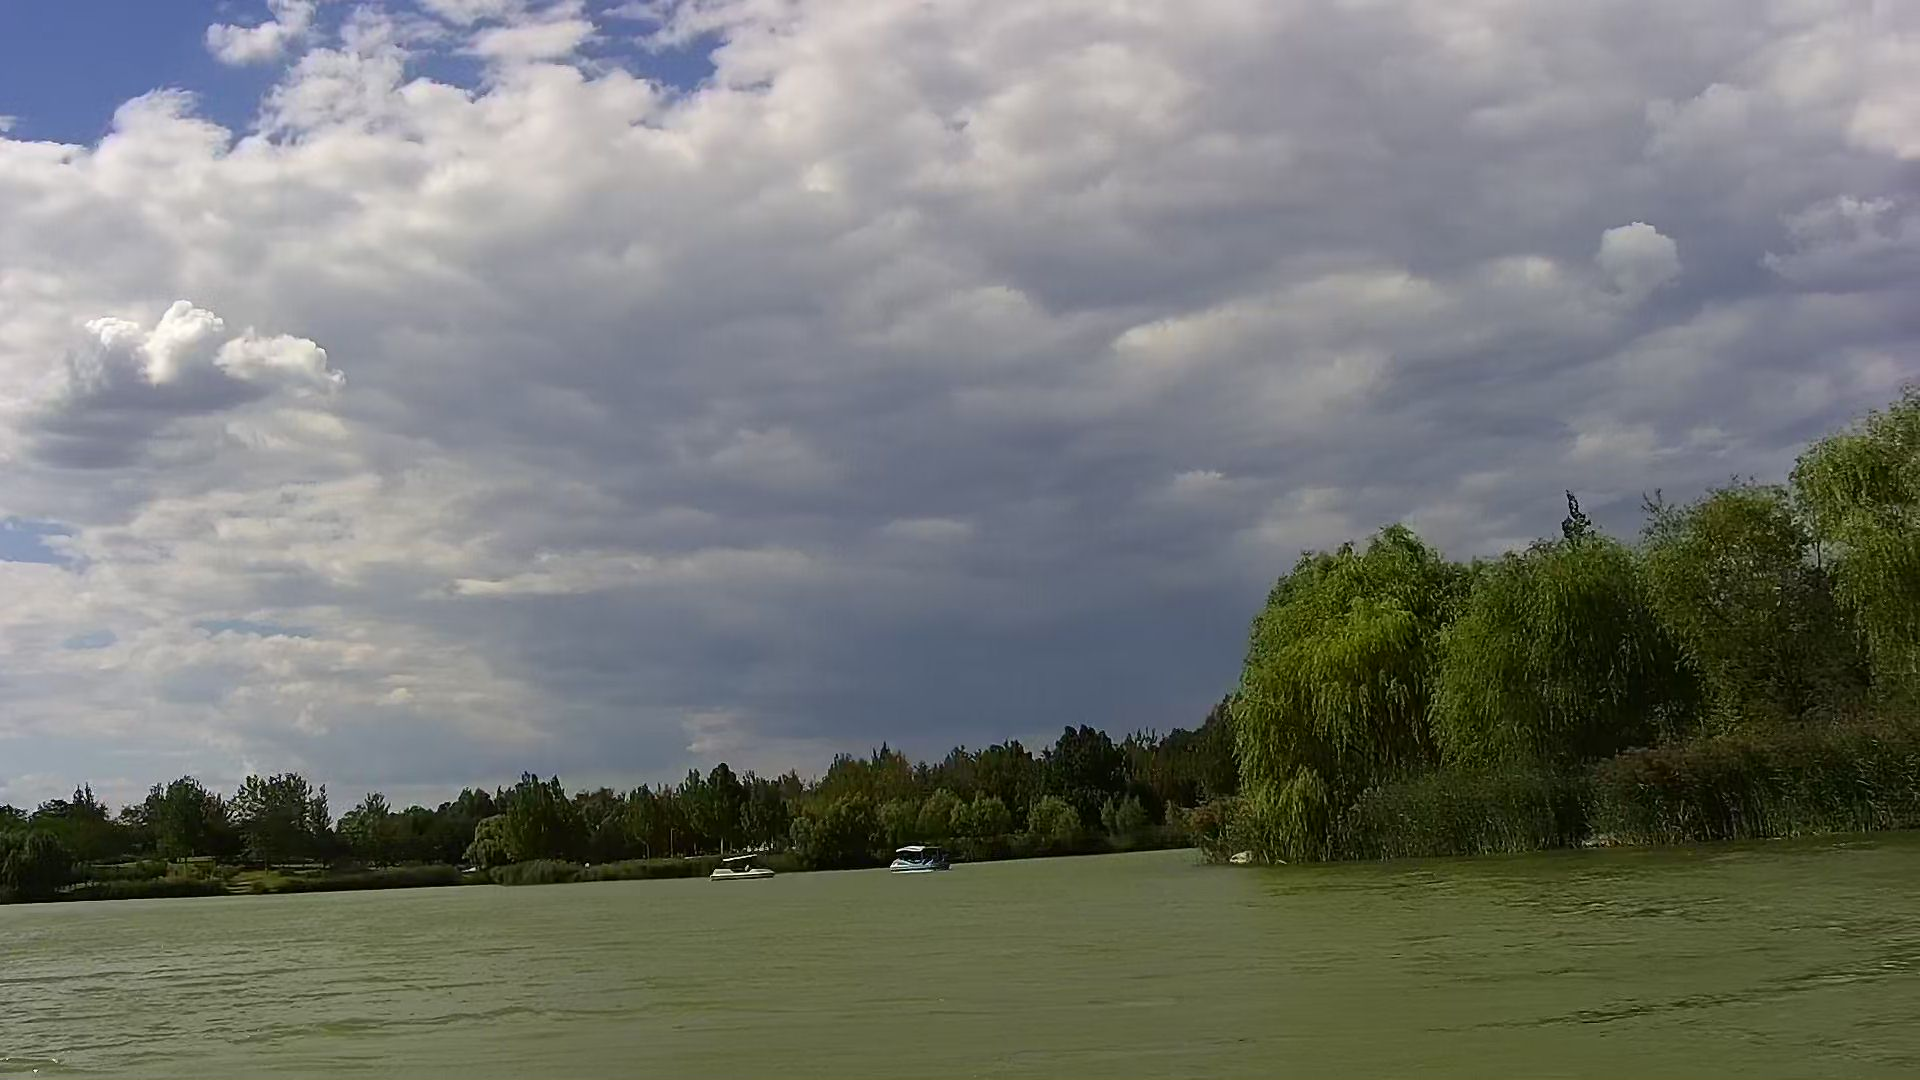boat: (887, 843, 949, 874), (709, 855, 774, 884)
rock: (1225, 851, 1257, 868)
